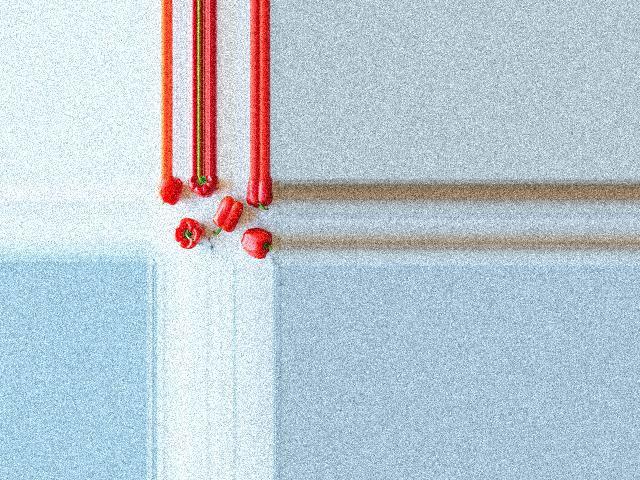bell_pepper: (189, 176, 219, 198)
